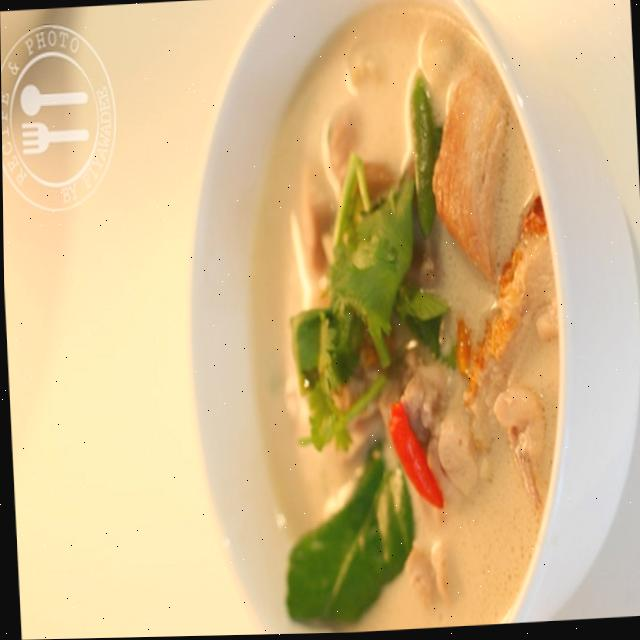汤锅炖物: (174, 0, 640, 637)
